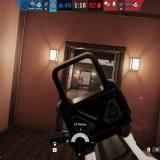Character: (80, 77, 84, 88)
